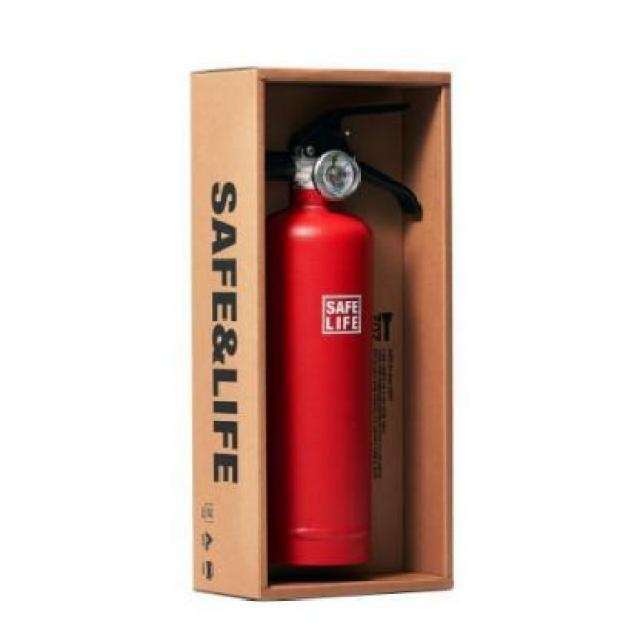fire extinguisher: (262, 94, 424, 566)
